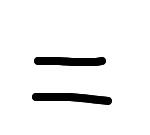eqv: (23, 51, 117, 108)
